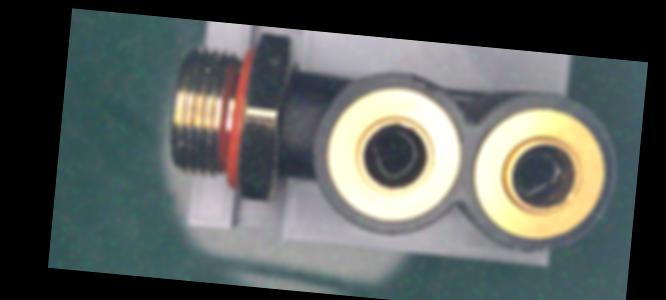off-centered: (360, 120, 428, 183), (509, 146, 566, 201)
white mark: (284, 129, 303, 149)
